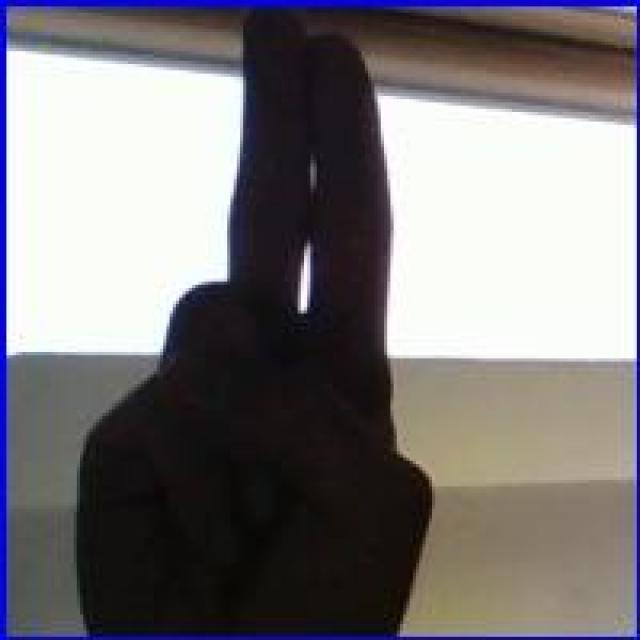U: (45, 16, 445, 621)
